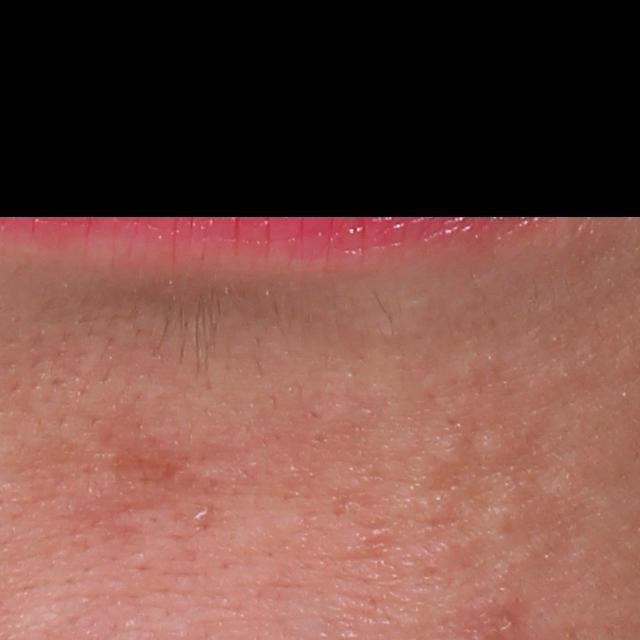hypertrophic_scar: (389, 475, 460, 534), (482, 497, 528, 545), (469, 425, 515, 468), (426, 432, 465, 469)
